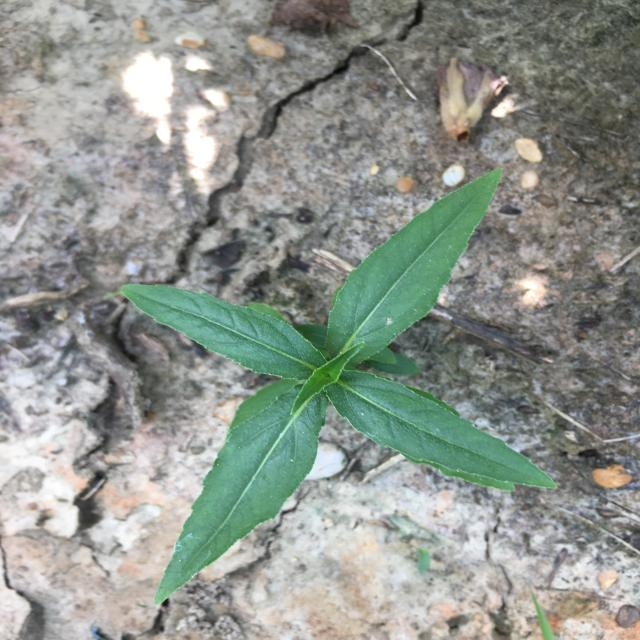Eclipta: (122, 168, 558, 606)
